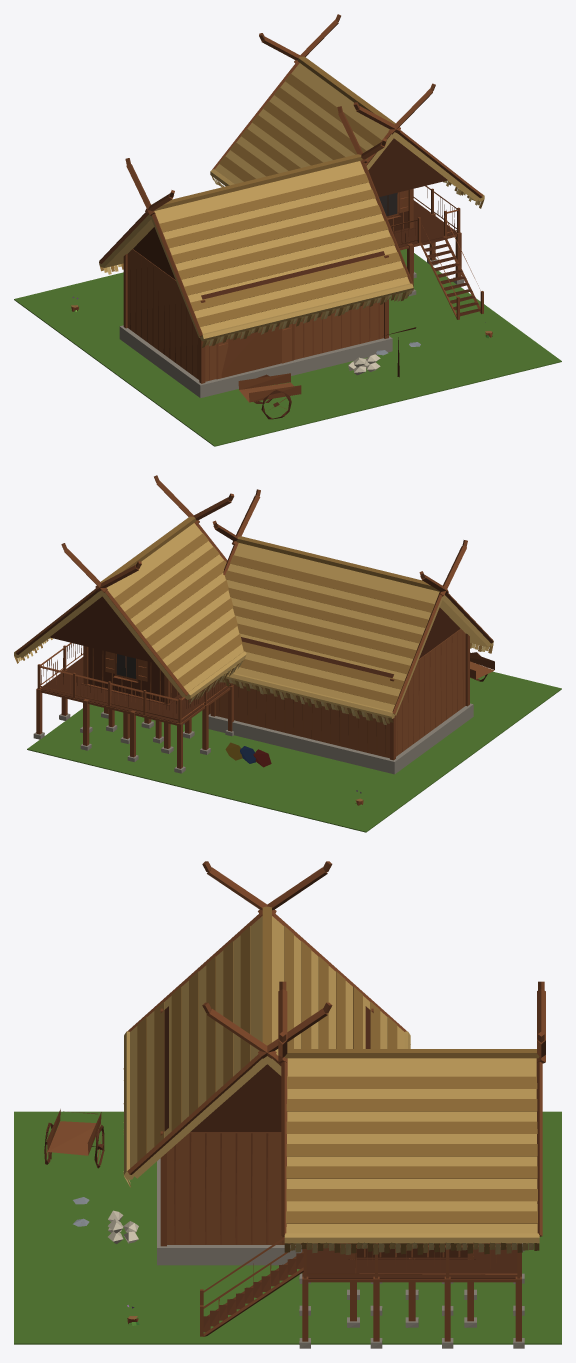
Rendered from shop_4.glb.
3 renders of one model, top to bottom at view 1: azimuth 30°, elevation 25°; view 2: azimuth 150°, elevation 25°; view 3: azimuth 270°, elevation 25°, orthographic. The views are drawn at different scales.
Parts seen in each view (by area): view 1: body; view 2: body; view 3: body.
Boxes of the visible parts, box(x1,y1,x2,y2) form: body: box(14, 14, 561, 446); body: box(14, 475, 561, 832); body: box(14, 861, 561, 1348).
Size of the model in its own units: 16.92 by 9.6 by 15.9.
